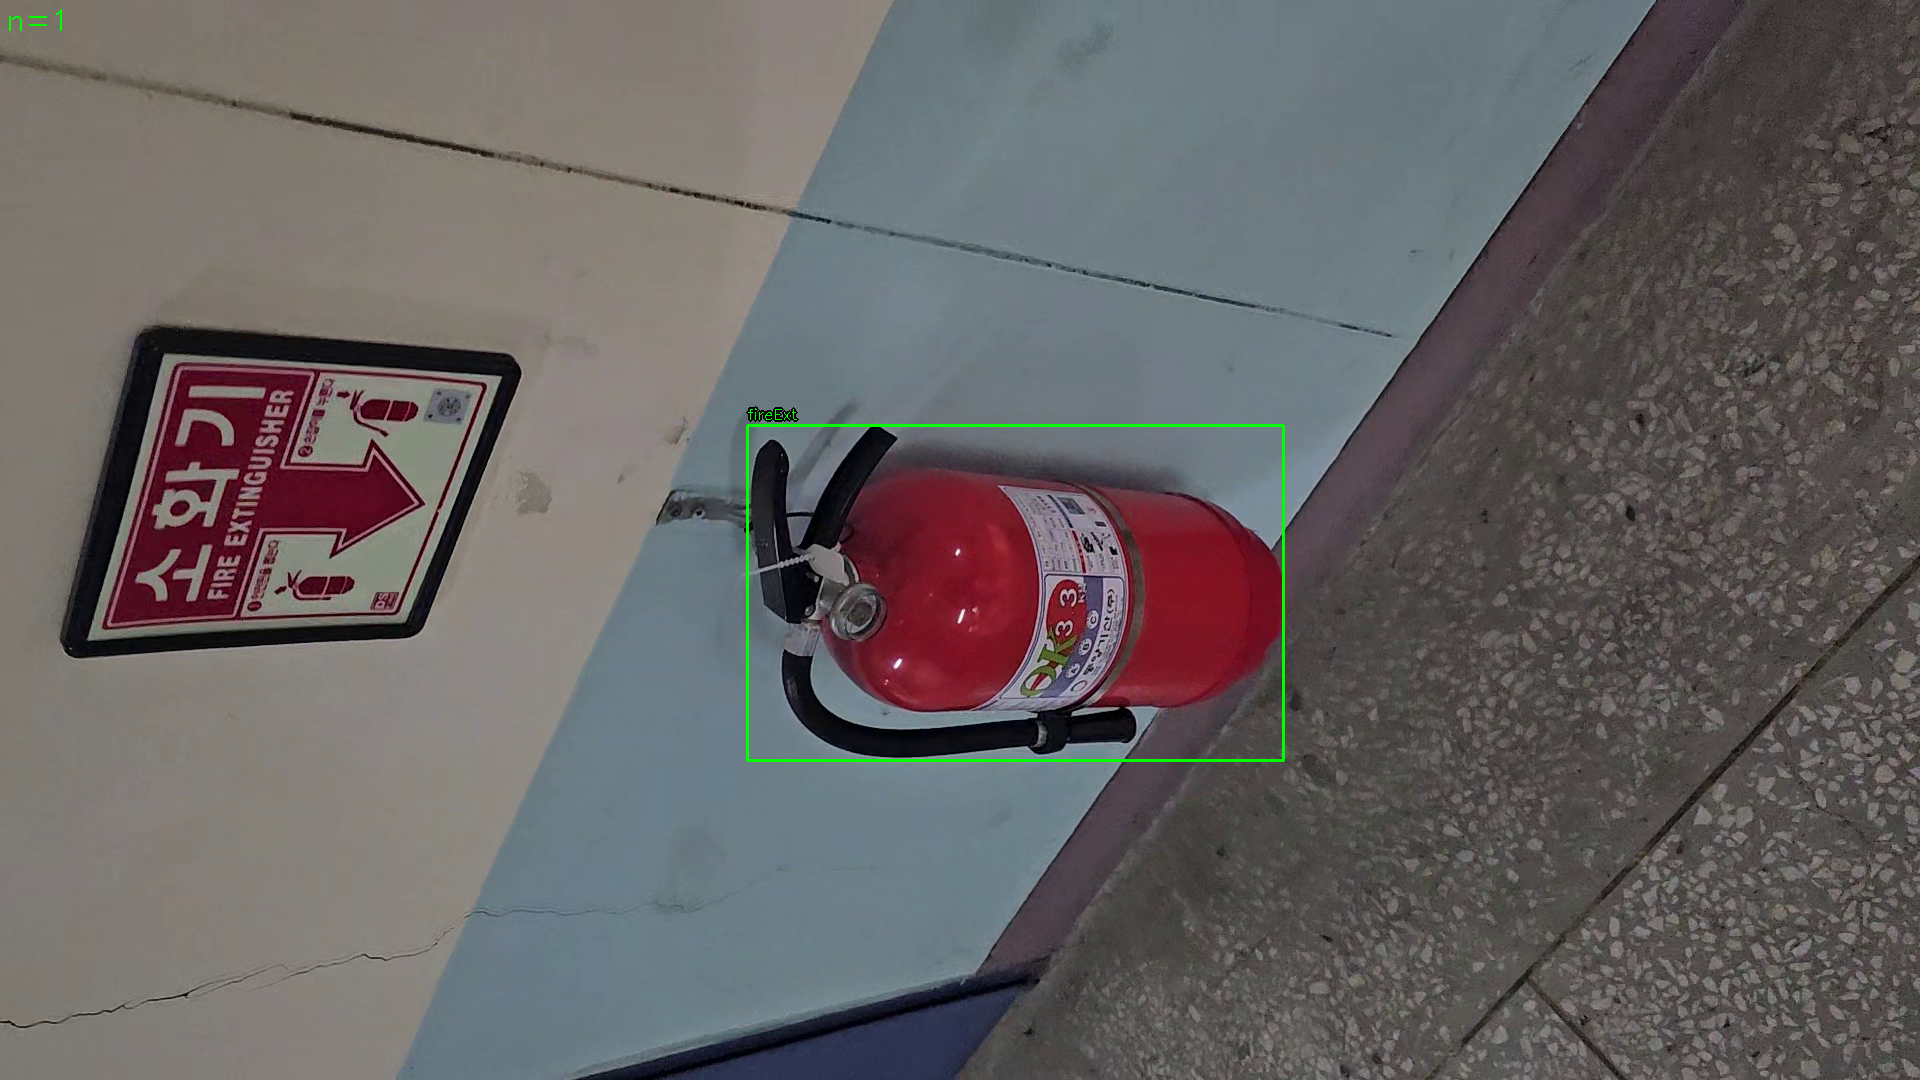lane: (746, 425, 1284, 761)
